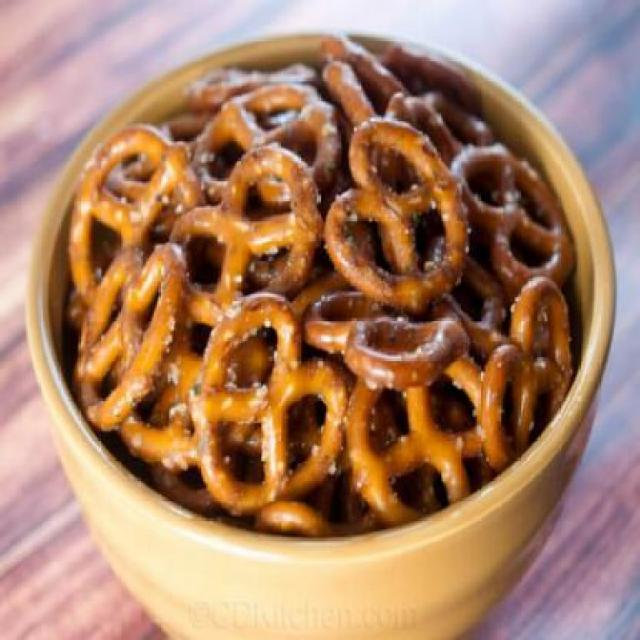Salatini packaged: (59, 41, 586, 517)
